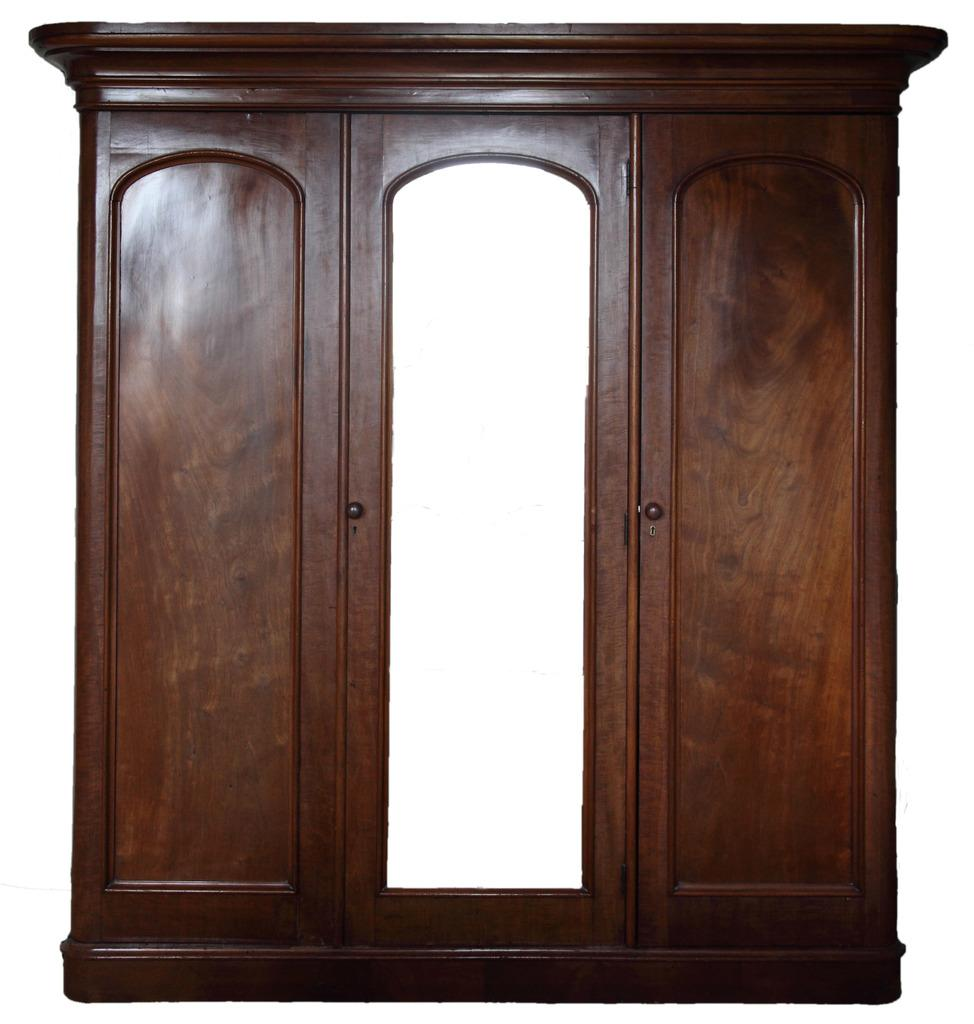cabinet_door: (354, 128, 620, 944), (645, 128, 873, 936)
handle: (642, 490, 666, 544), (344, 499, 368, 529)
